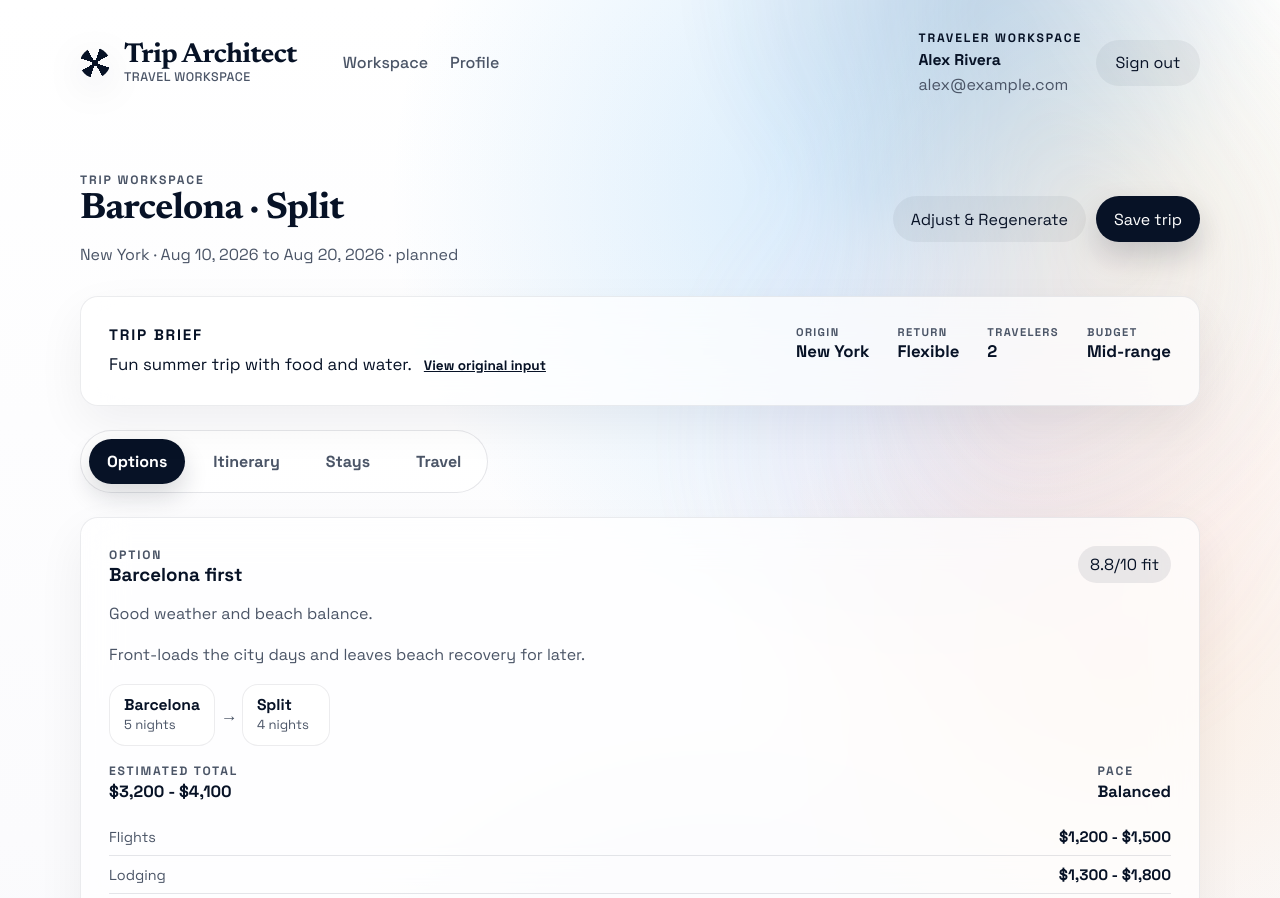
trip detail blocks itinerary tabs until a route option is selected
Click the tab "Itinerary" at (247,461), box [195, 439, 298, 484]
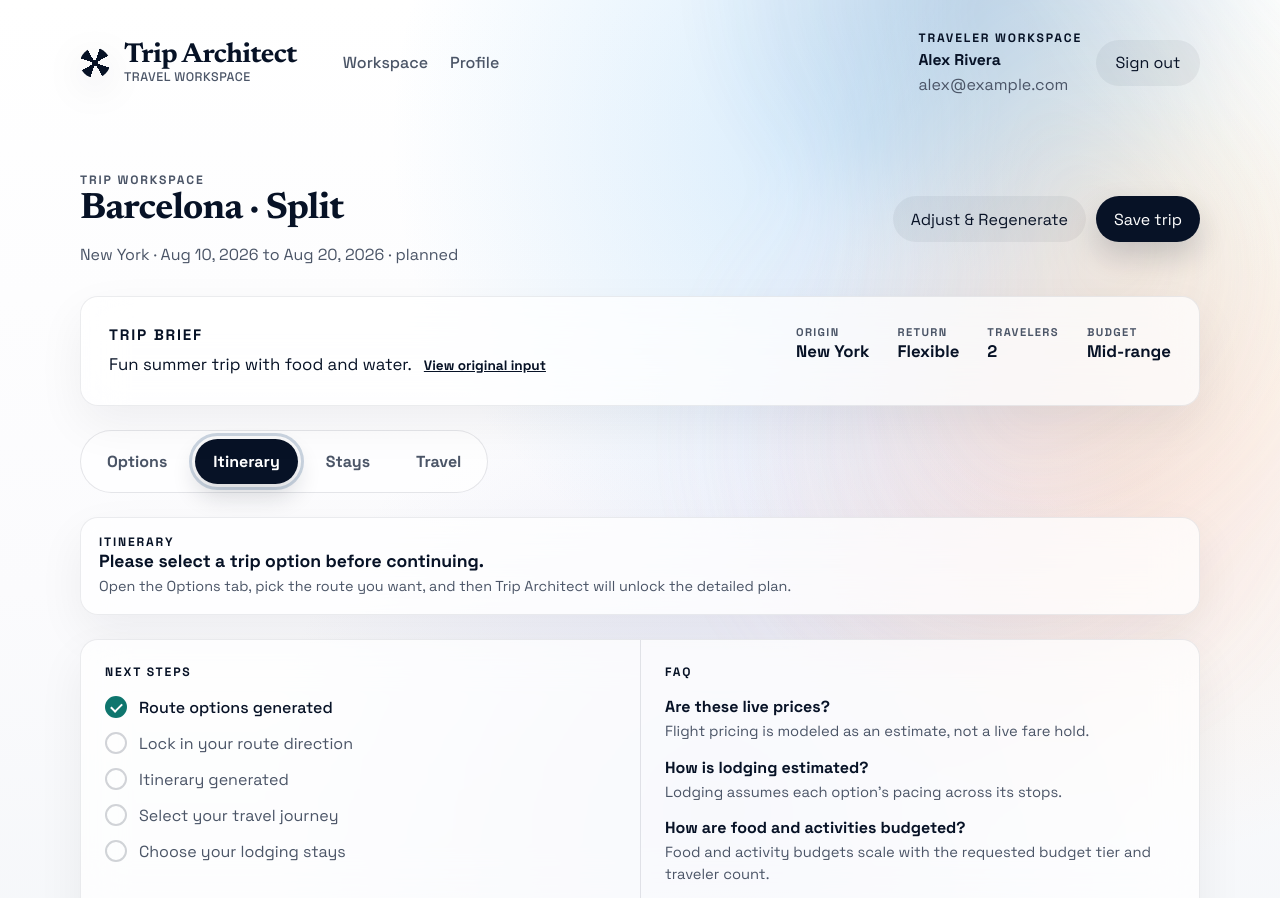
Expected: the heading "Please select a trip option before continuing." is shown, [99, 550, 484, 572]
Expected: the text "Open the Options tab, pick the route you want" is shown, [99, 577, 791, 595]
